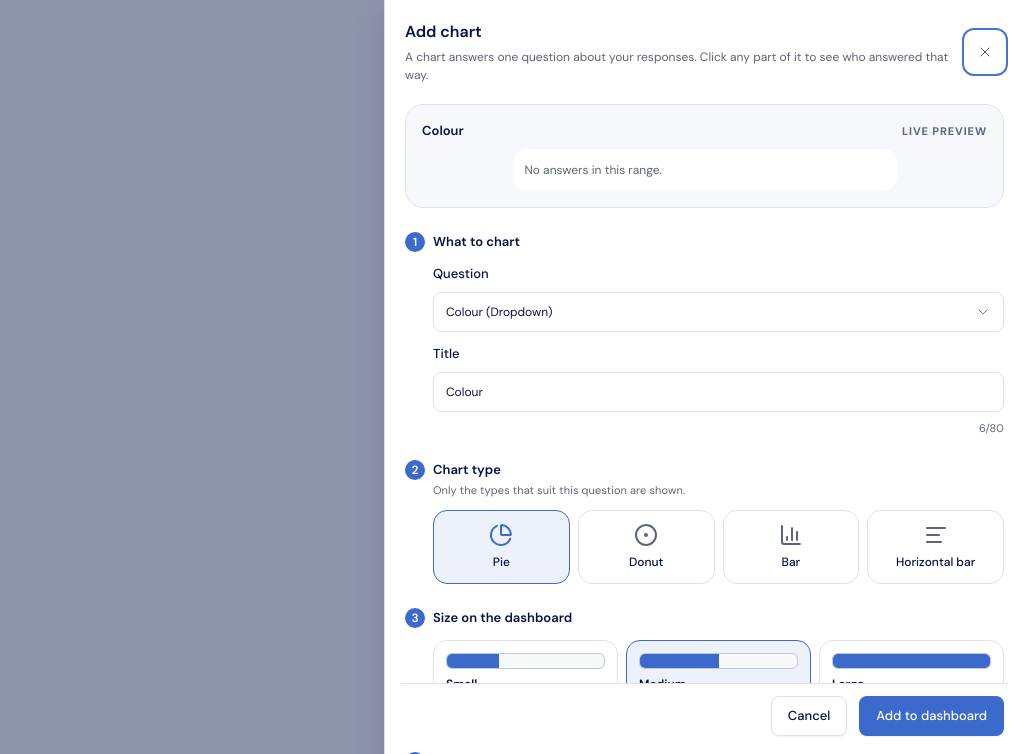
ChartDrawer › blocks submit with an empty title and explains why
Clear the field labelled "Title": (718, 392) [433,372,1004,412]
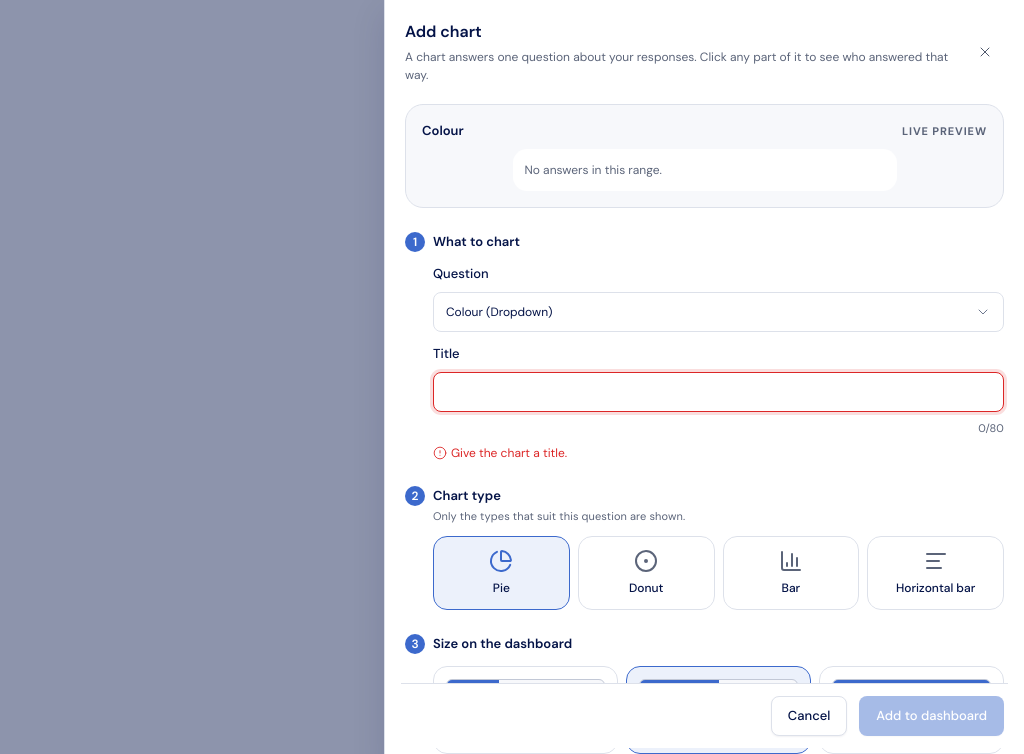
Expected: the text "Give the chart a title." is shown, [433,445,567,461]
Expected: the button "Add to dashboard" is disabled, [859,696,1004,736]
